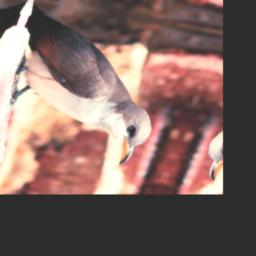Cuckoo: (0, 2, 192, 167)
